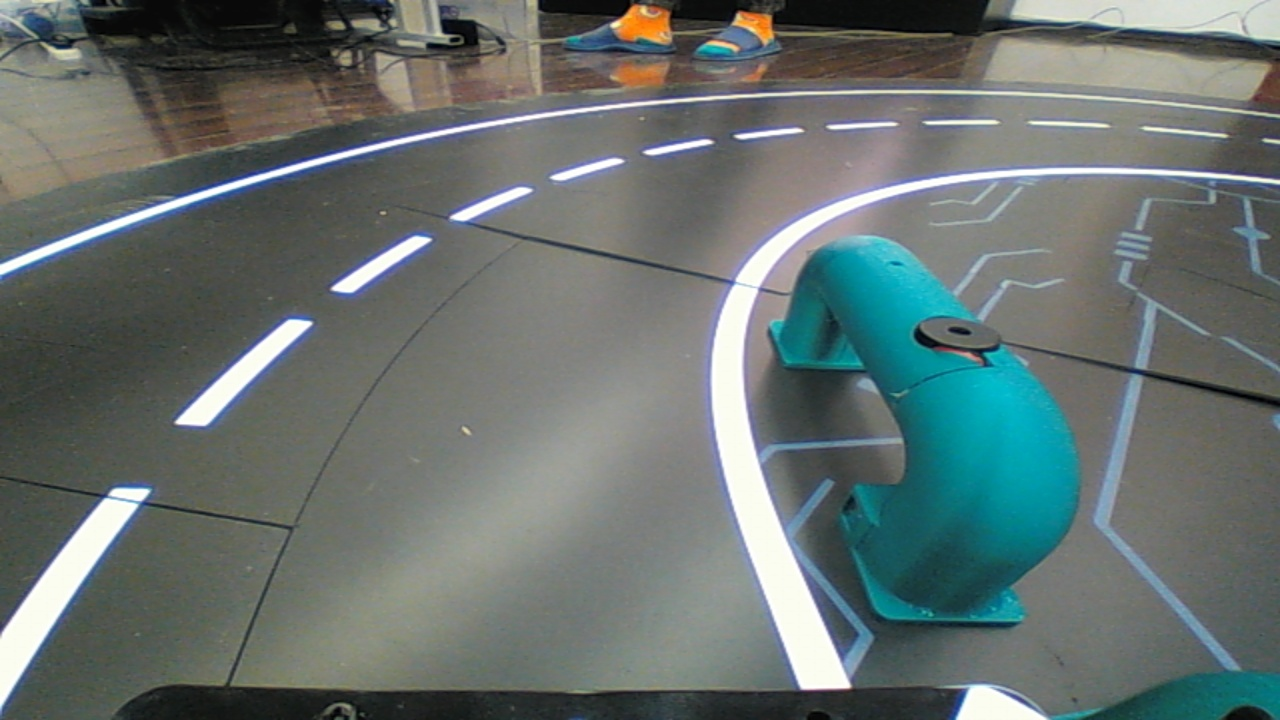Pedestrian crossing: (768, 215, 1088, 622)
